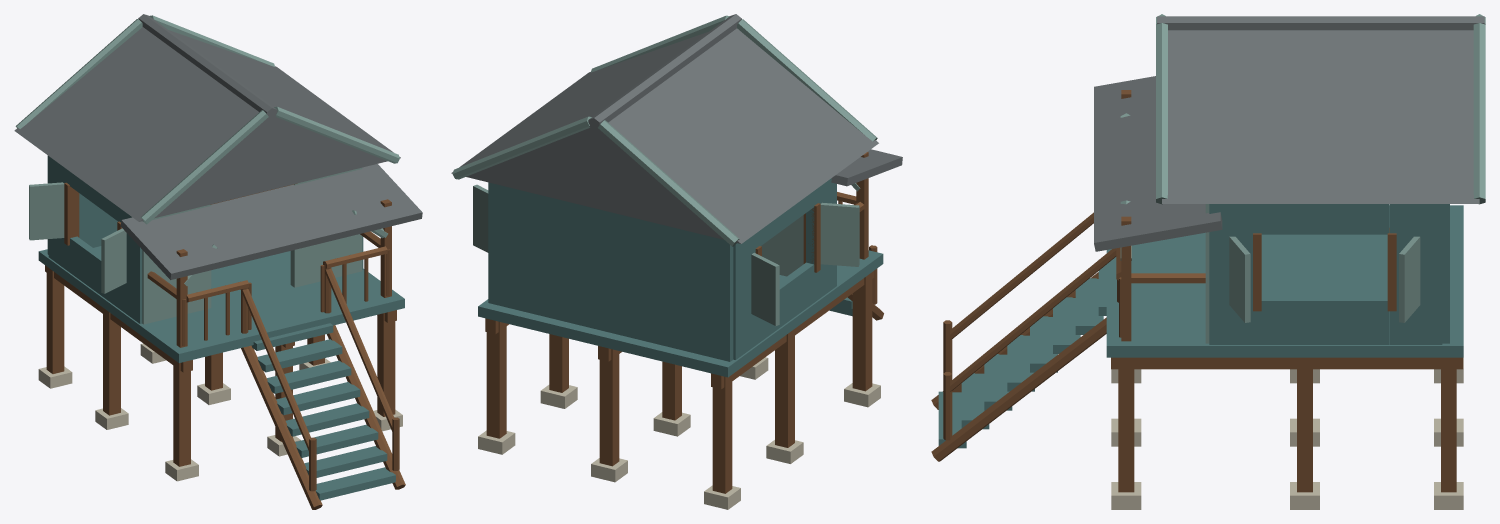
File: house-blue-normal.glb
The picture shows the model from 3 angles, left to right: view 1: azimuth 30°, elevation 25°; view 2: azimuth 150°, elevation 25°; view 3: azimuth 270°, elevation 25°; orthographic projection. The views are drawn at different scales.
Visible parts, largest first — view 1: house-blue; view 2: house-blue; view 3: house-blue.
Part boxes in pixels (bbox=[...]): house-blue: bbox=[14, 14, 422, 509]; house-blue: bbox=[451, 14, 902, 509]; house-blue: bbox=[931, 14, 1485, 509].
Size of the model in its own units: 4.17 by 4.71 by 5.59.
